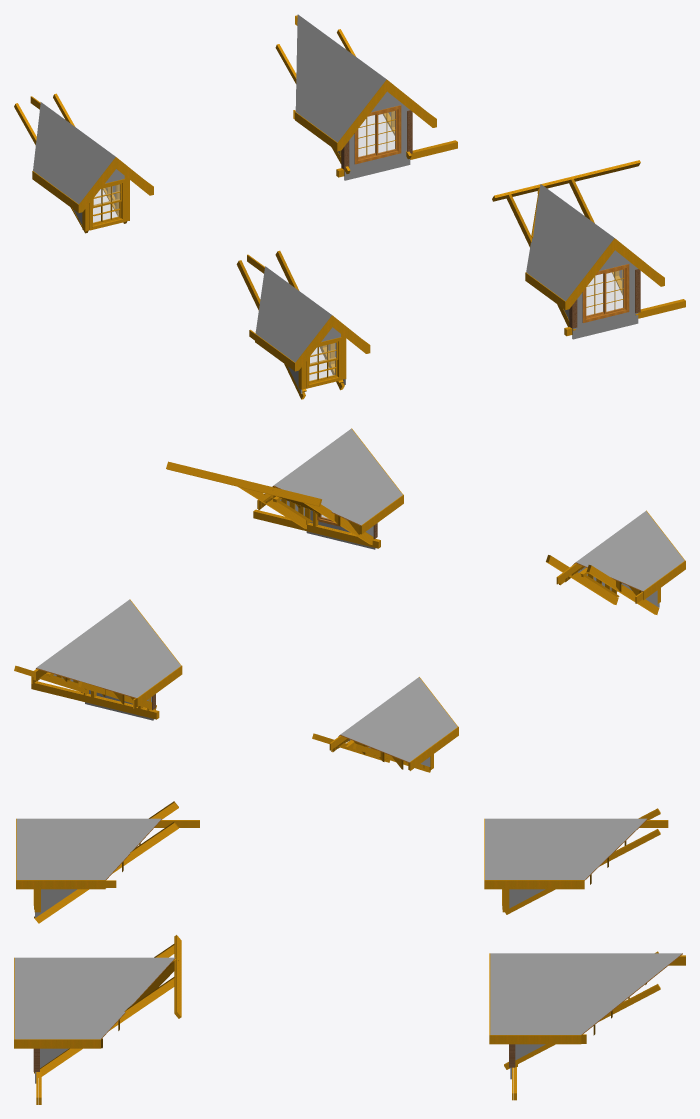
The model's file is Dormer.gltf.
3 renders of one model, top to bottom at view 1: azimuth 30°, elevation 25°; view 2: azimuth 150°, elevation 25°; view 3: azimuth 270°, elevation 25°, orthographic. The views are drawn at different scales.
Visible parts, largest first — view 1: Roofs, Windows, Fascias, Structural Framing, Walls, Casework; view 2: Roofs, Structural Framing, Fascias, Walls; view 3: Roofs, Structural Framing, Fascias, Walls, Casework.
Boxes of the visible parts, x1,y1,x2,y2 form: Roofs: (33, 14, 614, 362); Windows: (89, 105, 629, 388); Fascias: (32, 79, 664, 371); Structural Framing: (14, 15, 685, 399); Walls: (73, 91, 638, 393); Casework: (82, 110, 640, 389); Roofs: (36, 428, 684, 762); Structural Framing: (14, 461, 659, 772); Fascias: (130, 428, 685, 770); Walls: (53, 499, 659, 766); Roofs: (14, 818, 682, 1039); Structural Framing: (34, 801, 685, 1104); Fascias: (14, 818, 584, 1048); Walls: (35, 889, 545, 1083); Casework: (33, 889, 515, 1071).
Bounding box in the file's own units: 12.33 × 2.82 × 15.83.
9 materials, 6 textured.
